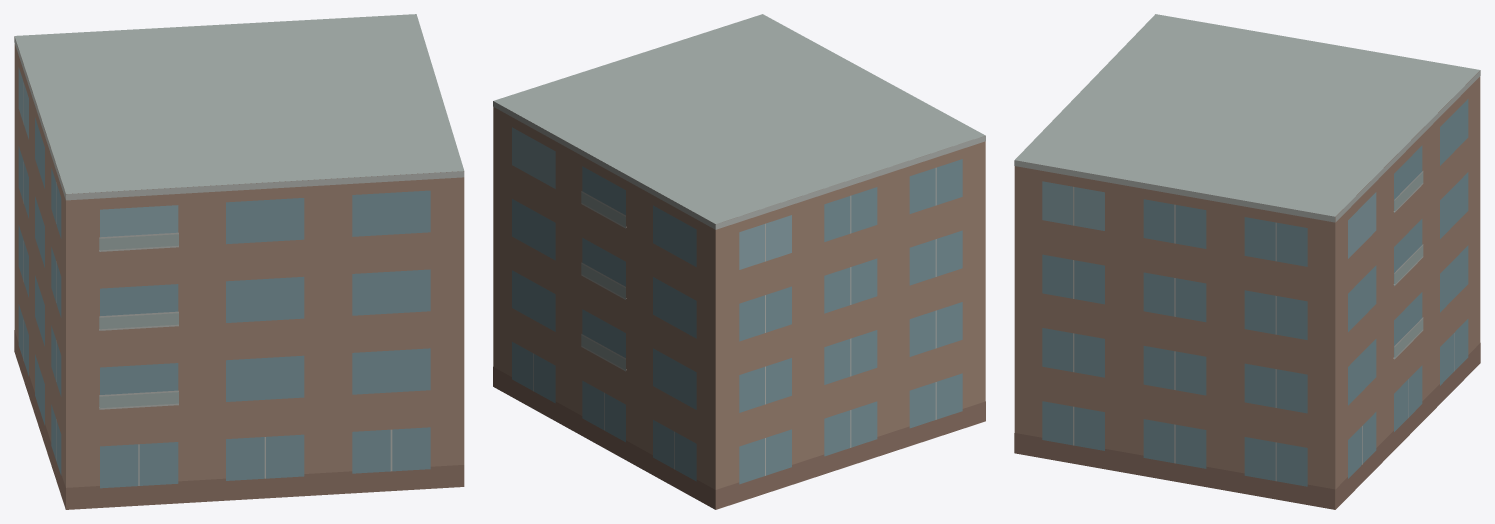
File: survey-upis-32476416.glb
The picture shows the model from 3 angles, left to right: view 1: azimuth 30°, elevation 25°; view 2: azimuth 150°, elevation 25°; view 3: azimuth 270°, elevation 25°; orthographic projection. The views are drawn at different scales.
Parts seen in each view (by area): view 1: survey-upis-32476416.tmp; view 2: survey-upis-32476416.tmp; view 3: survey-upis-32476416.tmp.
Boxes of the visible parts, box(x1,y1,x2,y2) form: survey-upis-32476416.tmp: box(14, 14, 464, 509); survey-upis-32476416.tmp: box(493, 14, 985, 509); survey-upis-32476416.tmp: box(1014, 14, 1480, 509).
Size of the model in its own units: 18.1 by 12.2 by 17.59.
